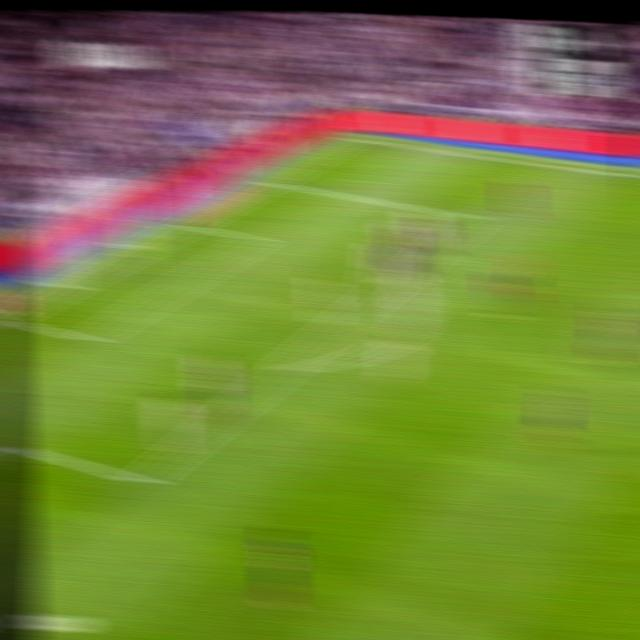bigarea_bottom_inner: (127, 467, 156, 494)
bigarea_top_inner: (463, 209, 488, 226)
bigarea_top_outter: (258, 173, 281, 186)
bottom_arc_area_intersection: (270, 355, 299, 378)
corner: (336, 130, 364, 143)
smallarea_bottom_inner: (74, 328, 101, 349)
smallarea_top_inner: (244, 231, 267, 246)
